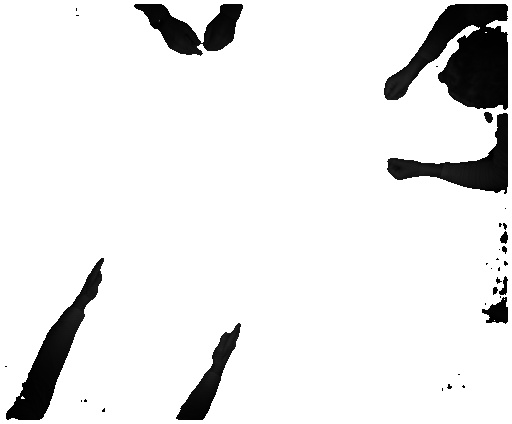fist: (204, 15, 241, 55), (384, 69, 414, 103), (384, 156, 419, 183)
hand: (161, 21, 205, 55)
spine: (211, 320, 247, 369), (78, 256, 103, 307)
